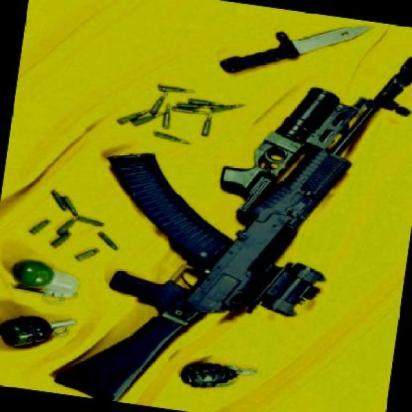Gun: (42, 2, 412, 412)
